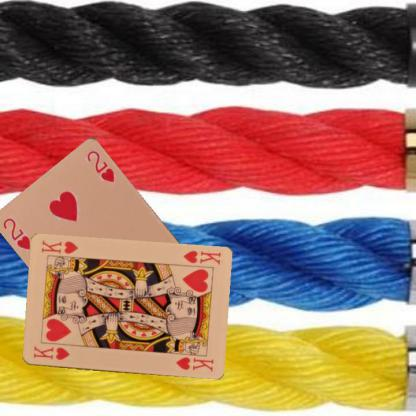2h: (0, 215, 32, 251)
Kh: (180, 248, 222, 266), (30, 344, 71, 361)
